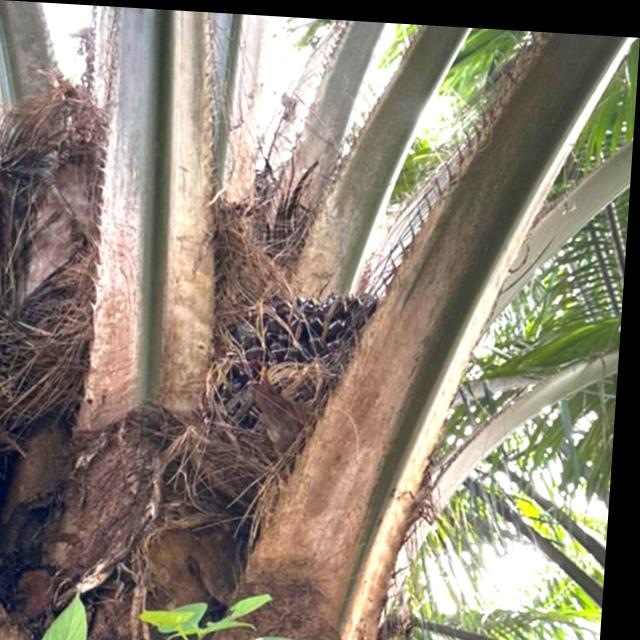almost: (202, 265, 426, 486)
